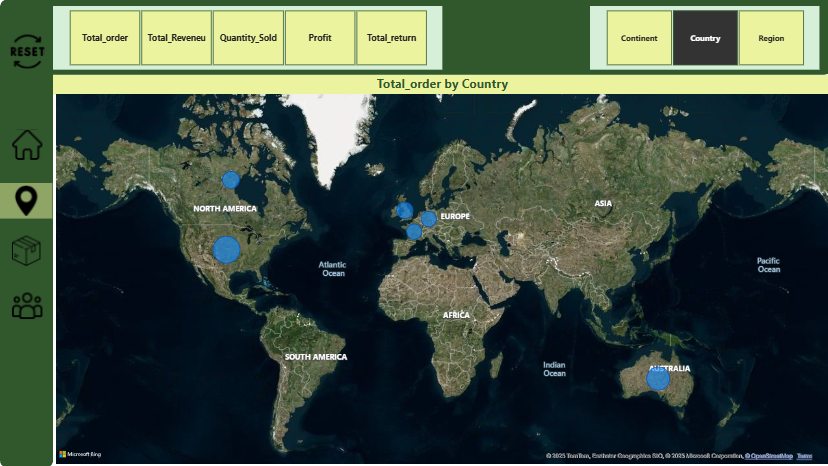

This screenshot's page, from the dashboard's own definition file:
{"tool":"powerbi","page":{"name":"Map","canvas":[1280,720],"ordinal":1},"visuals":[{"type":"shape","box":[0,0,1280.2,116.6],"z":0},{"type":"shape","box":[0,25,81.7,695],"z":1000},{"type":"map","fields":{"Category":["Territory Lookup.Country"],"Size":[".Measure_Table.Total_order"]},"box":[82.1,116.6,1198.1,603.4],"z":2000},{"type":"slicer","fields":{"Values":["Location Parameter.Location Parameter"]},"box":[907.2,10.1,352.8,97.9],"z":3000},{"type":"slicer","fields":{"Values":["Parameter.Parameter"]},"box":[82.1,10.1,599,97.9],"z":4000},{"type":"actionButton","box":[1.4,197.3,80.6,54.7],"z":5000},{"type":"actionButton","box":[0,283.7,80.6,54.7],"z":6000},{"type":"actionButton","box":[0,360,80.6,54.7],"z":7000},{"type":"actionButton","box":[1.4,445,80.6,54.7],"z":8000},{"type":"actionButton","box":[13,50.4,67.7,60.5],"z":8001}]}

Visuals, with their boxes on the page's 1280x720 design canvas (x1, y1, x2, y2). These are canvas units, not pixel positions in the 828x466 screenshot, which may show the page scaled, cropped or inside an application window:
shape: [0, 0, 1280, 117]
shape: [0, 25, 82, 720]
map - Territory Lookup.Country x .Measure_Table.Total_order: [82, 117, 1280, 720]
slicer - Location Parameter.Location Parameter: [907, 10, 1260, 108]
slicer - Parameter.Parameter: [82, 10, 681, 108]
actionButton: [1, 197, 82, 252]
actionButton: [0, 284, 81, 338]
actionButton: [0, 360, 81, 415]
actionButton: [1, 445, 82, 500]
actionButton: [13, 50, 81, 111]
